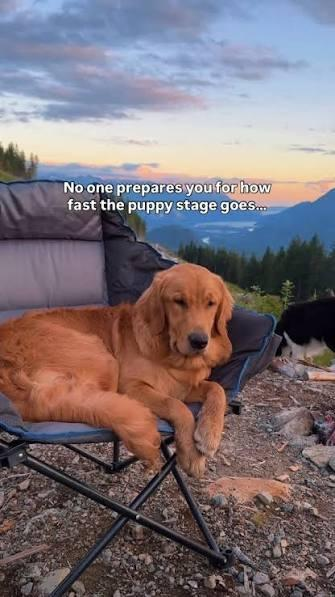adult_dog: (0, 261, 234, 478), (271, 296, 335, 370)
